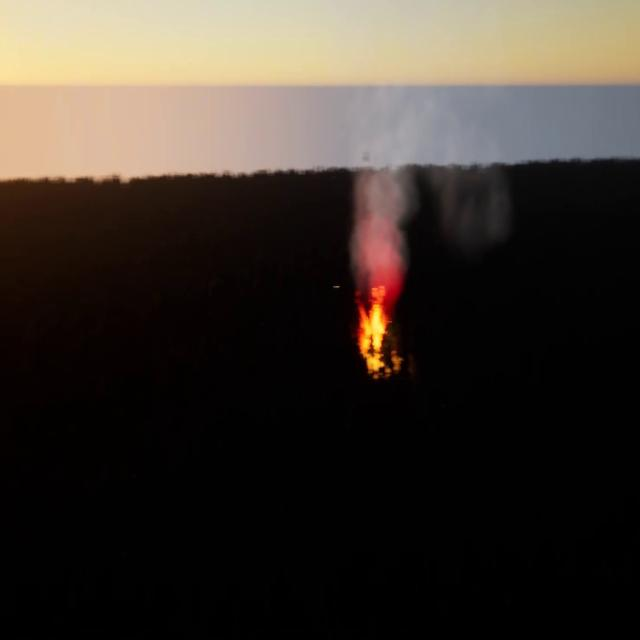fire: (355, 286, 402, 374)
smoke: (352, 98, 436, 288)
